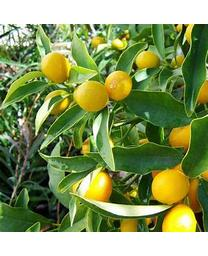lemon: (153, 170, 188, 202), (78, 172, 113, 202), (75, 82, 109, 112), (164, 205, 198, 234), (41, 52, 72, 82), (104, 72, 131, 101), (136, 53, 161, 69)
